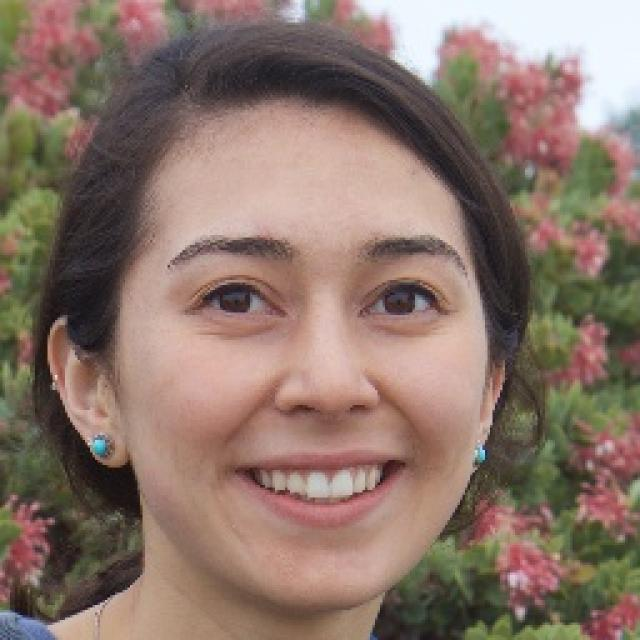earlobe: (47, 314, 129, 469), (468, 322, 509, 472)
